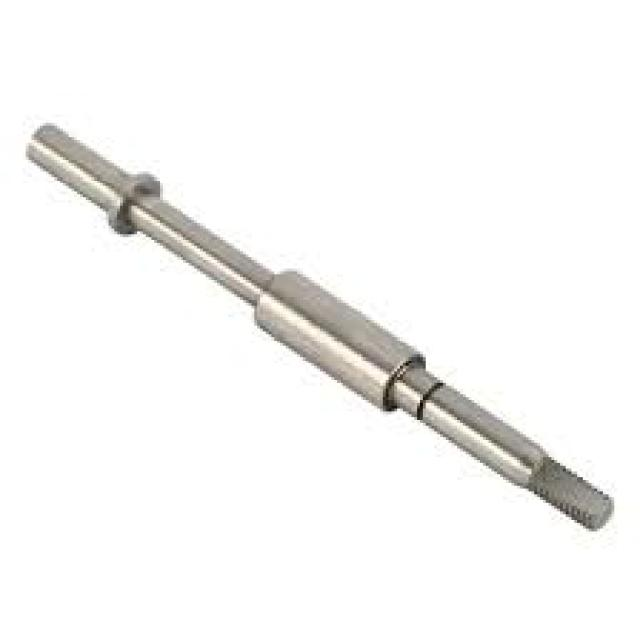Turning: (16, 96, 621, 559)
